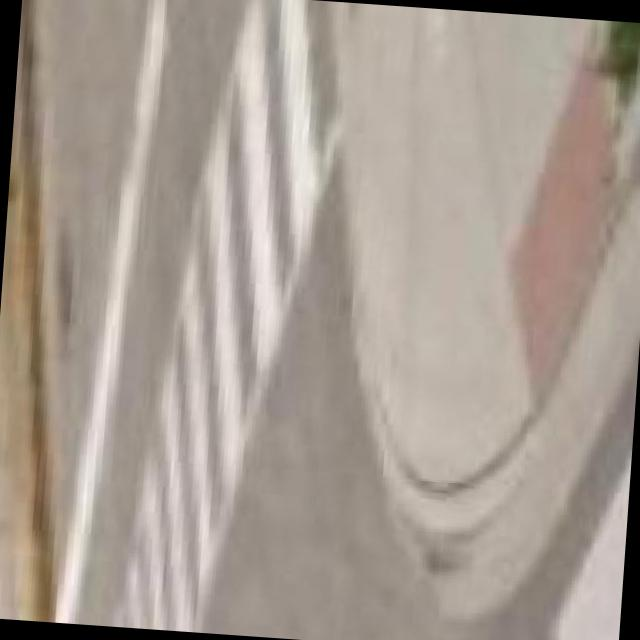zebra: (92, 0, 361, 633)
